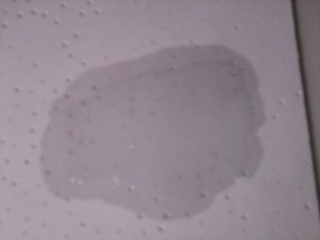Water_detected: (64, 61, 224, 195)
